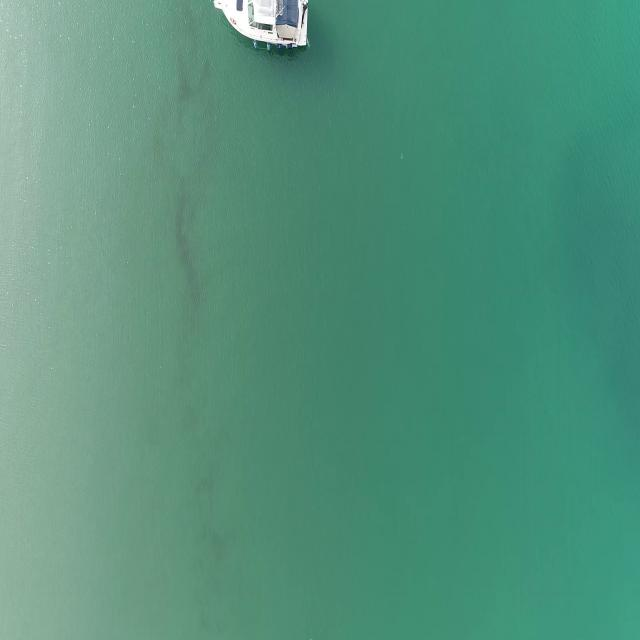boat: (213, 0, 310, 60)
